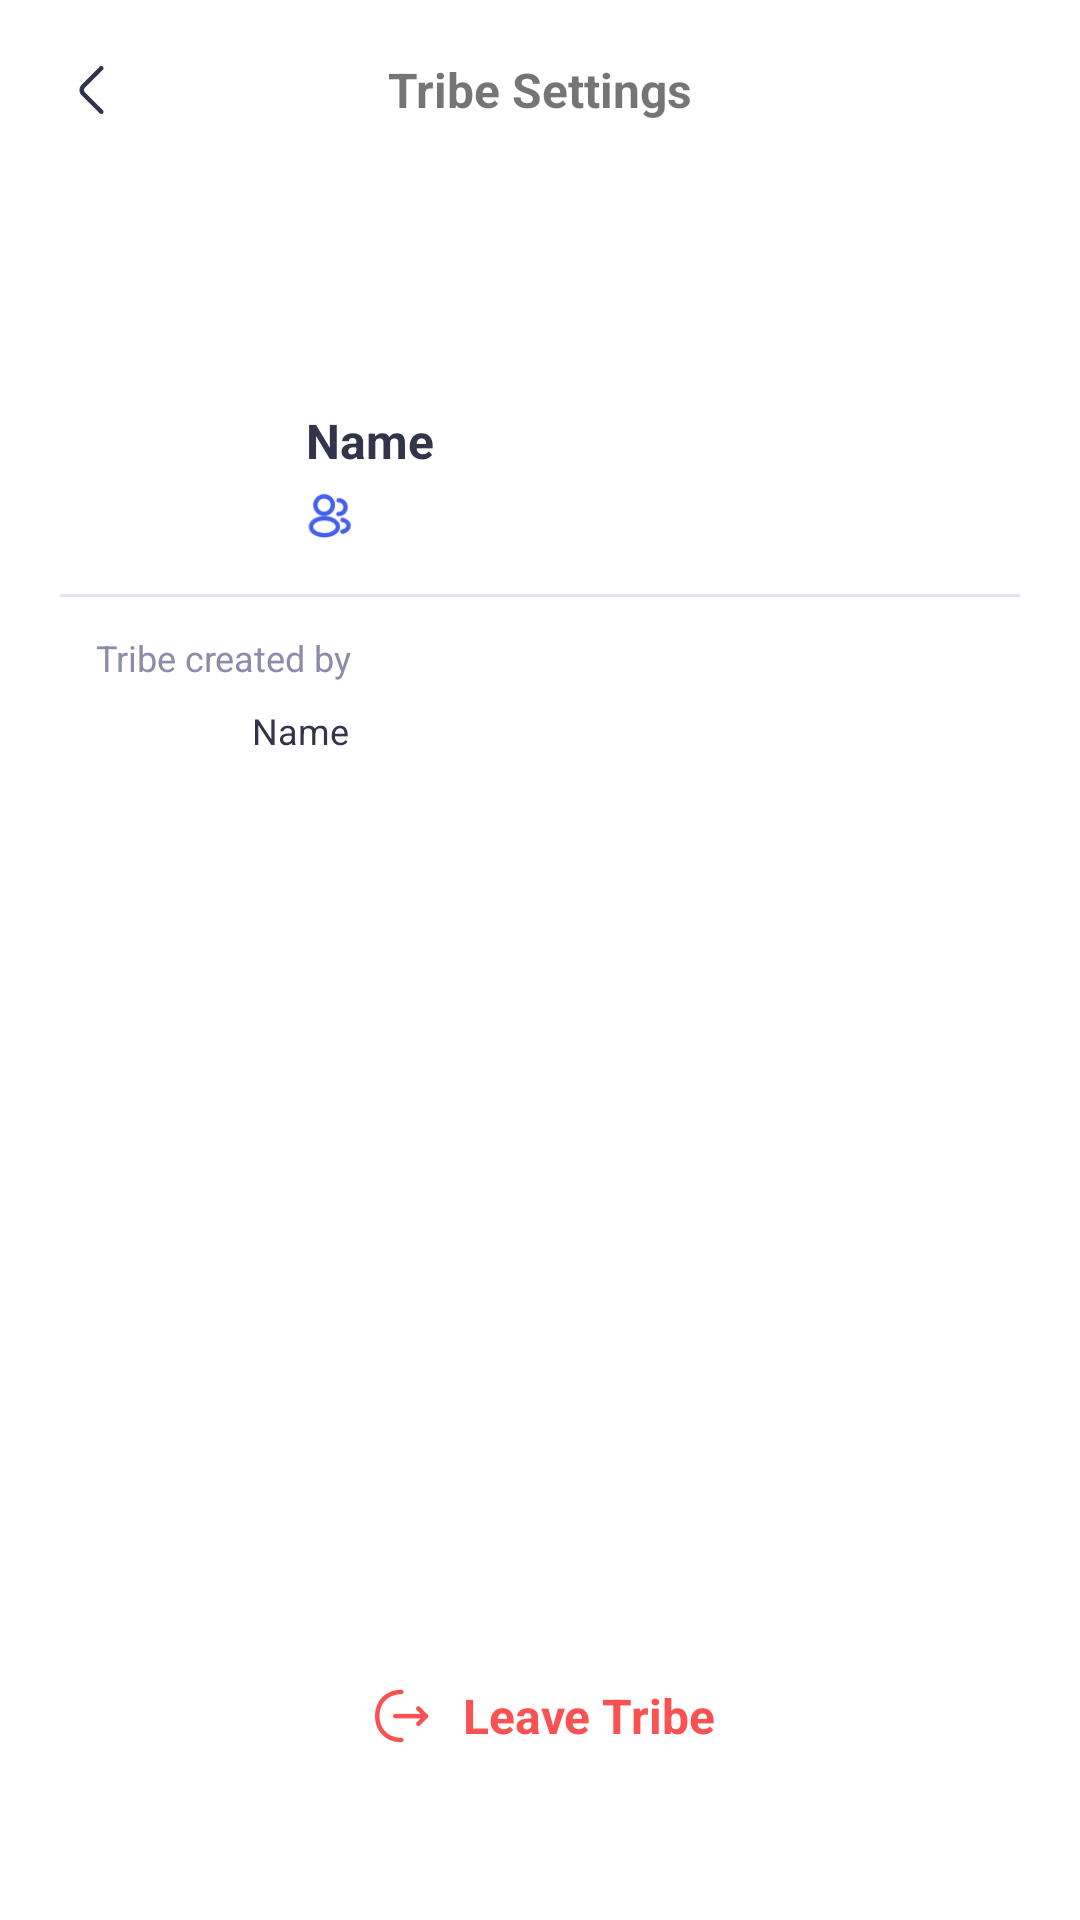

Point at icon controls on the screen. Image size 1080×1920, points as point (x, y).
navigation back: point (91, 90)
tribe members: point (329, 516)
